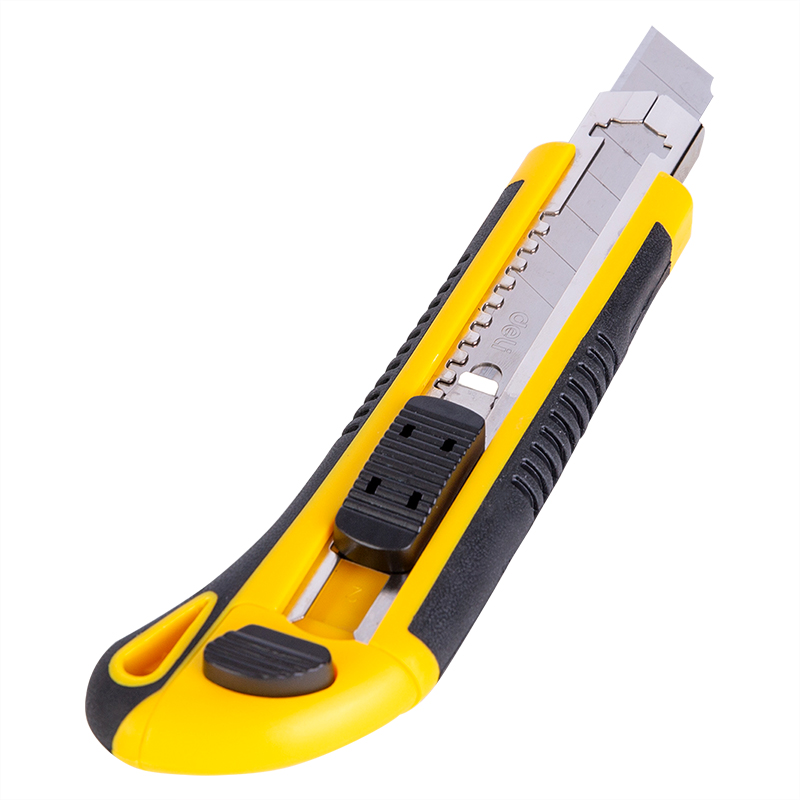cutter: (85, 25, 714, 777)
